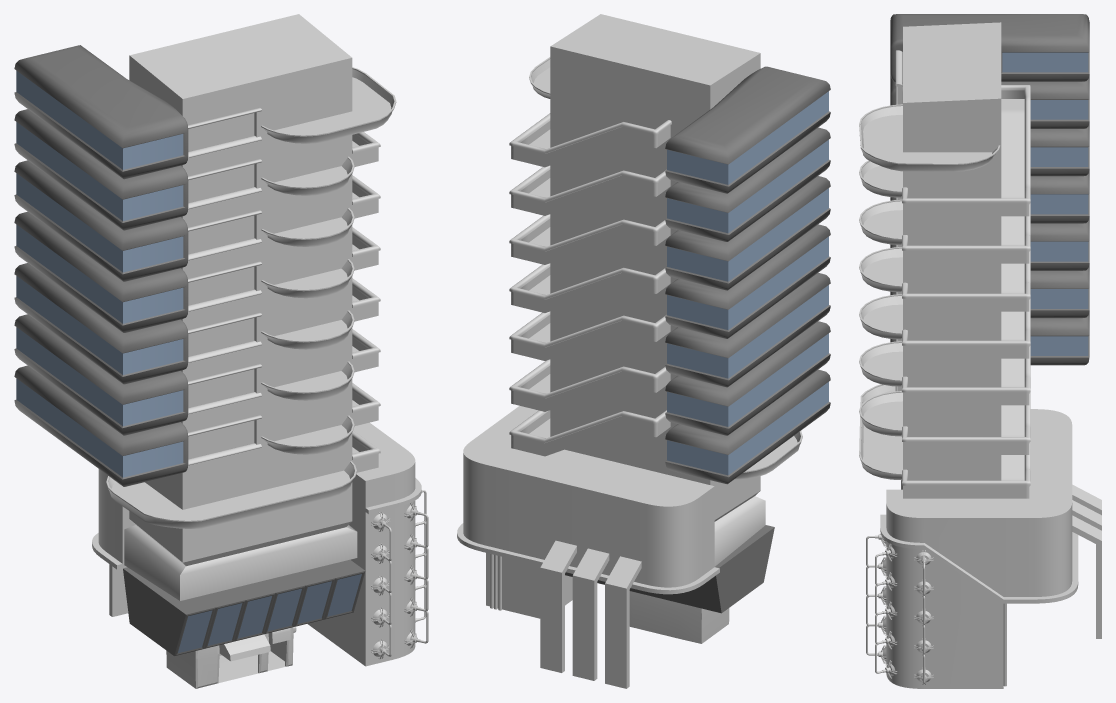
File: KF_SM_Kayan_Building5.fbx
The picture shows the model from 3 angles, left to right: view 1: azimuth 30°, elevation 25°; view 2: azimuth 150°, elevation 25°; view 3: azimuth 270°, elevation 25°; orthographic projection. The views are drawn at different scales.
Parts seen in each view (by area): view 1: Box020, Box073, Box008, Box007, Cylinder004, Cylinder003, Object001, Balcon.Corner_low, Box001, Object, Cylinder005, Cylinder006 (+1 smaller); view 2: Box073, Box020, Box008, Balcon.Corner_low, Box077, Box007, Box001, Object001, Object; view 3: Box020, Box008, Balcon.Corner_low, Box073, Cylinder004, Object, Object001, Box077, Cylinder007, Cylinder006, Cylinder005, Cylinder003.
Boxes of the visible parts, box(x1,y1,x2,y2) form: Box020: box(124, 14, 357, 600); Box073: box(14, 45, 188, 486); Box008: box(92, 422, 421, 666); Box007: box(123, 559, 365, 655); Cylinder004: box(261, 156, 354, 454); Cylinder003: box(188, 107, 261, 465); Object001: box(106, 461, 356, 528); Balcon.Corner_low: box(352, 132, 380, 472); Box001: box(166, 627, 293, 688); Object: box(261, 67, 396, 143); Cylinder005: box(371, 512, 391, 659); Cylinder006: box(404, 502, 428, 648); Box073: box(665, 66, 830, 484); Box020: box(550, 14, 765, 566); Box008: box(457, 406, 719, 618); Balcon.Corner_low: box(509, 113, 671, 456); Box077: box(540, 540, 641, 688); Box007: box(565, 525, 774, 613); Box001: box(629, 591, 729, 643); Object001: box(735, 431, 802, 479); Object: box(529, 57, 550, 98); Box020: box(901, 22, 1001, 489); Box008: box(880, 409, 1078, 688); Balcon.Corner_low: box(902, 85, 1030, 498); Box073: box(890, 14, 1089, 365); Cylinder004: box(859, 160, 902, 436); Object: box(859, 104, 1000, 171); Object001: box(859, 384, 902, 480); Box077: box(1072, 484, 1101, 638); Cylinder007: box(914, 550, 933, 685); Cylinder006: box(875, 543, 897, 678); Cylinder005: box(866, 534, 886, 663); Cylinder003: box(895, 50, 902, 391).
Bounding box in the file's own units: 62.55 × 113 × 44.29.
